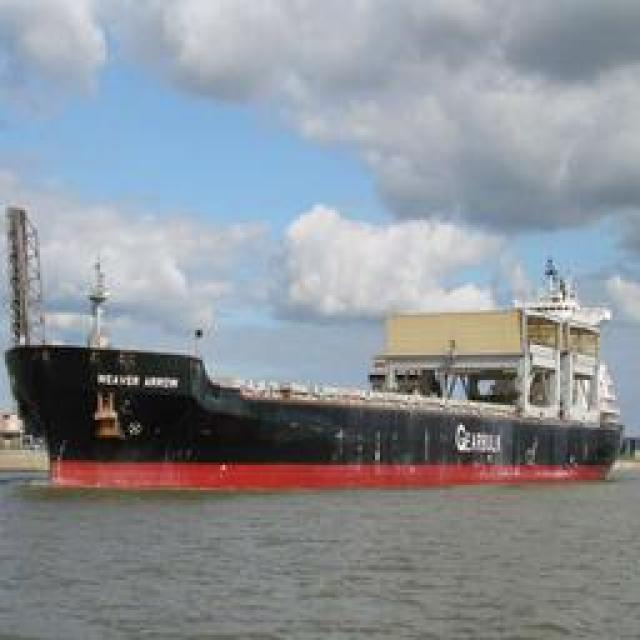CIV_Ship: (12, 252, 626, 466)
